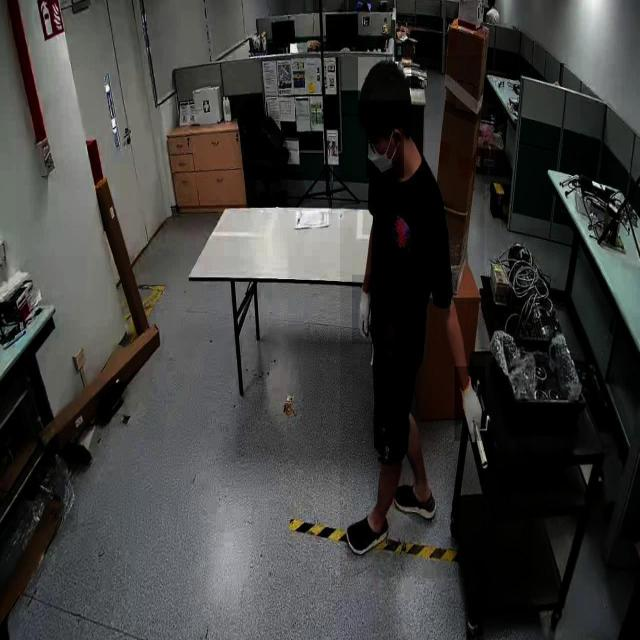face_mask: (366, 116, 404, 178)
hand_glove: (454, 366, 486, 442), (352, 275, 376, 344)
head_nohelmet: (358, 57, 412, 101)
person: (340, 55, 485, 579)
shoes: (342, 504, 392, 565), (388, 472, 442, 527)
